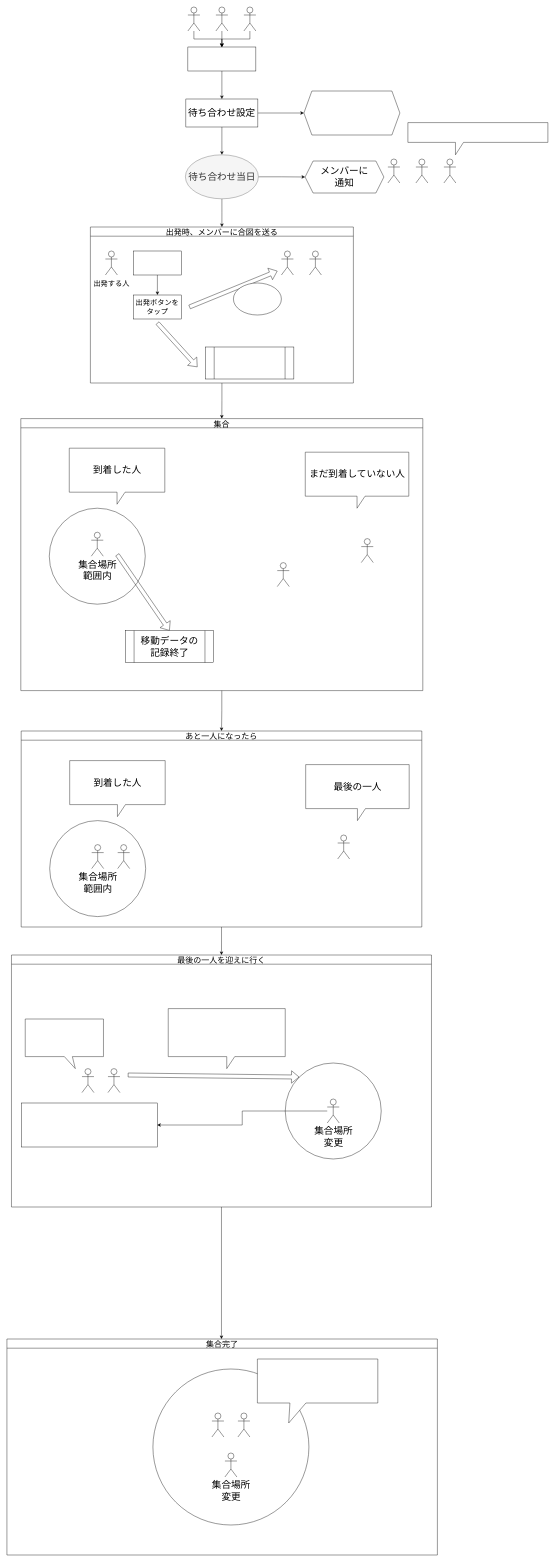
This 555x1562 diagram has some shape labels left out. Each missing label, with the centre of its shape:
アプリを起動: (157,263)
グループ作成: (221,59)
今日待ち合わせあるんだった！: (477,138)
出発を 通知: (257,299)
時間、場所 を設定: (351,113)
最初に到着した人: (64,1044)
最後の一人と合流したら、 集合完了: (317,1391)
最後の一人の居る地点に 集合場所が変更: (226,1038)
最後の一人の集合地点は、 最初に到着した人の現在地に 変更される。: (89,1125)
移動データを 記録開始: (249,363)
